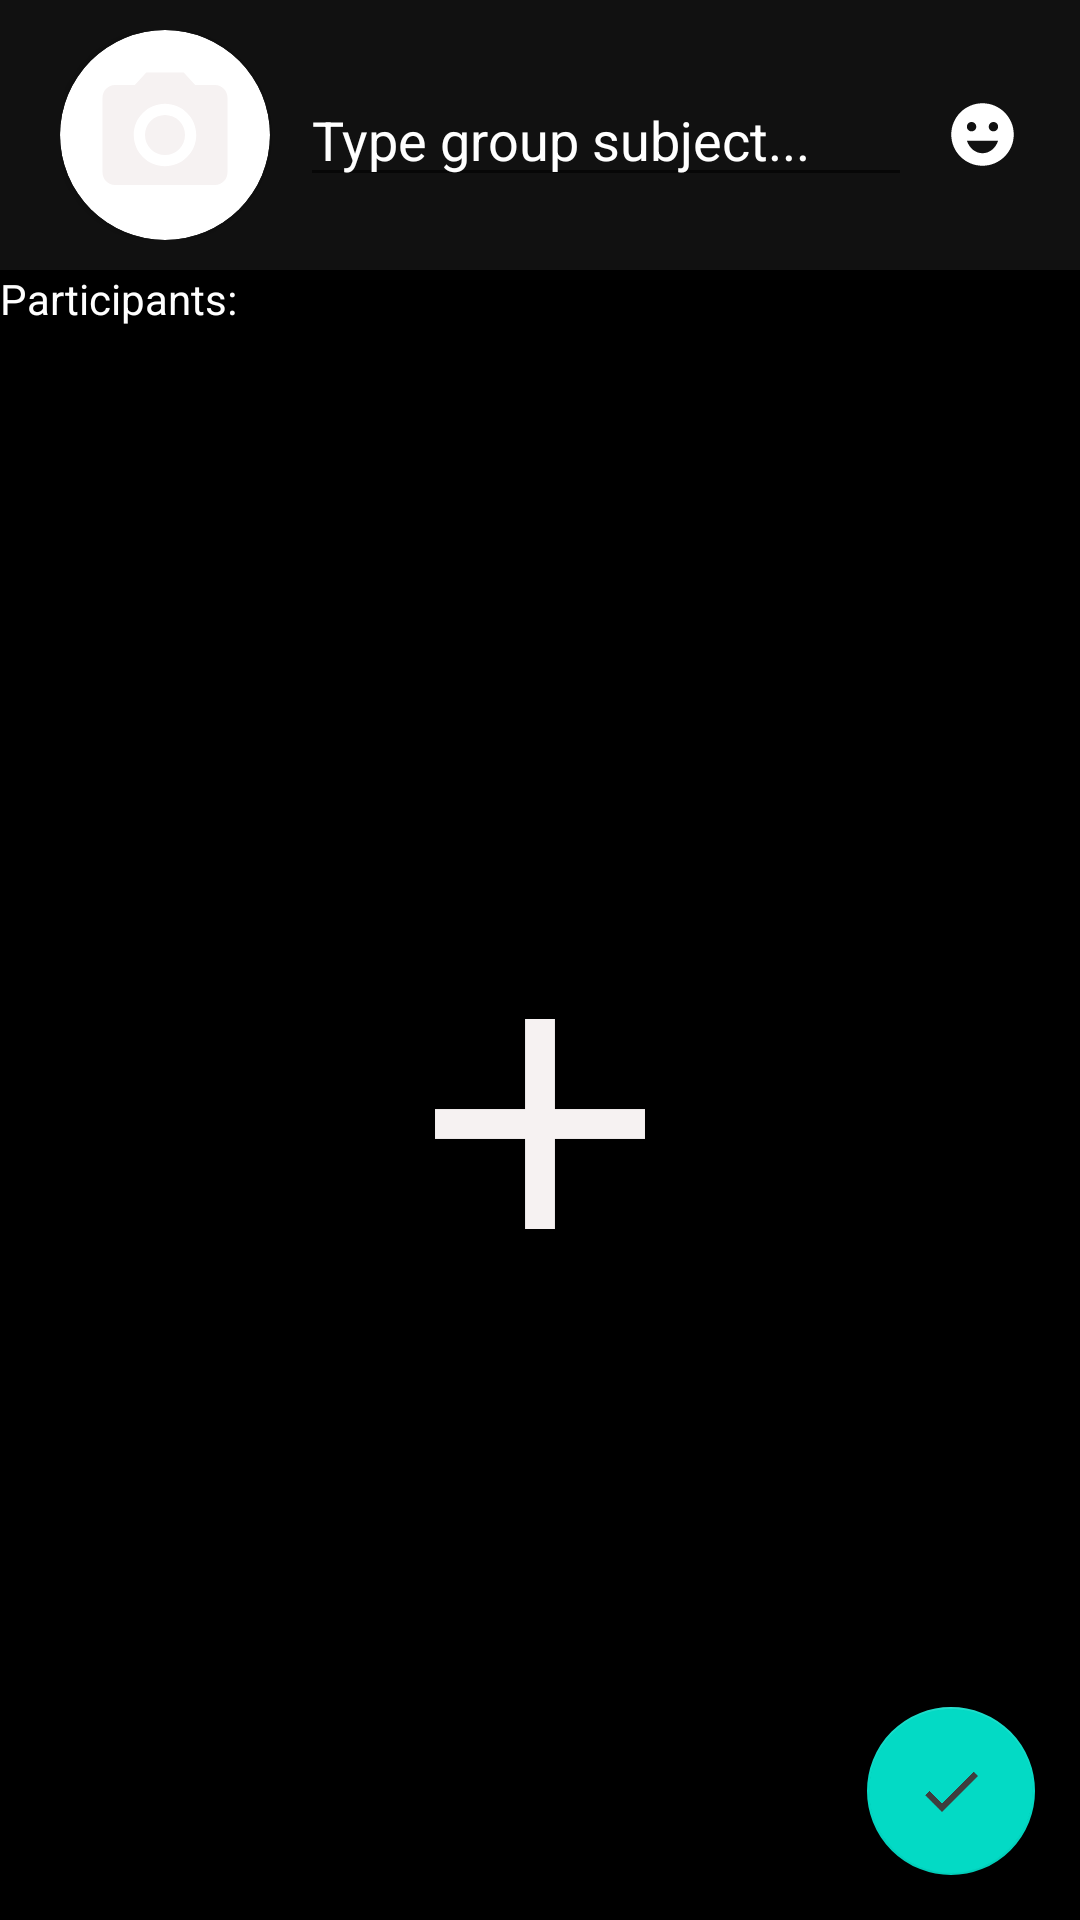

Point at icon controls on the screen. Image size 1080×1920, points as (x=x, y=y).
add: (x=540, y=1124)
check: (x=951, y=1791)
emoji emotions: (x=982, y=134)
